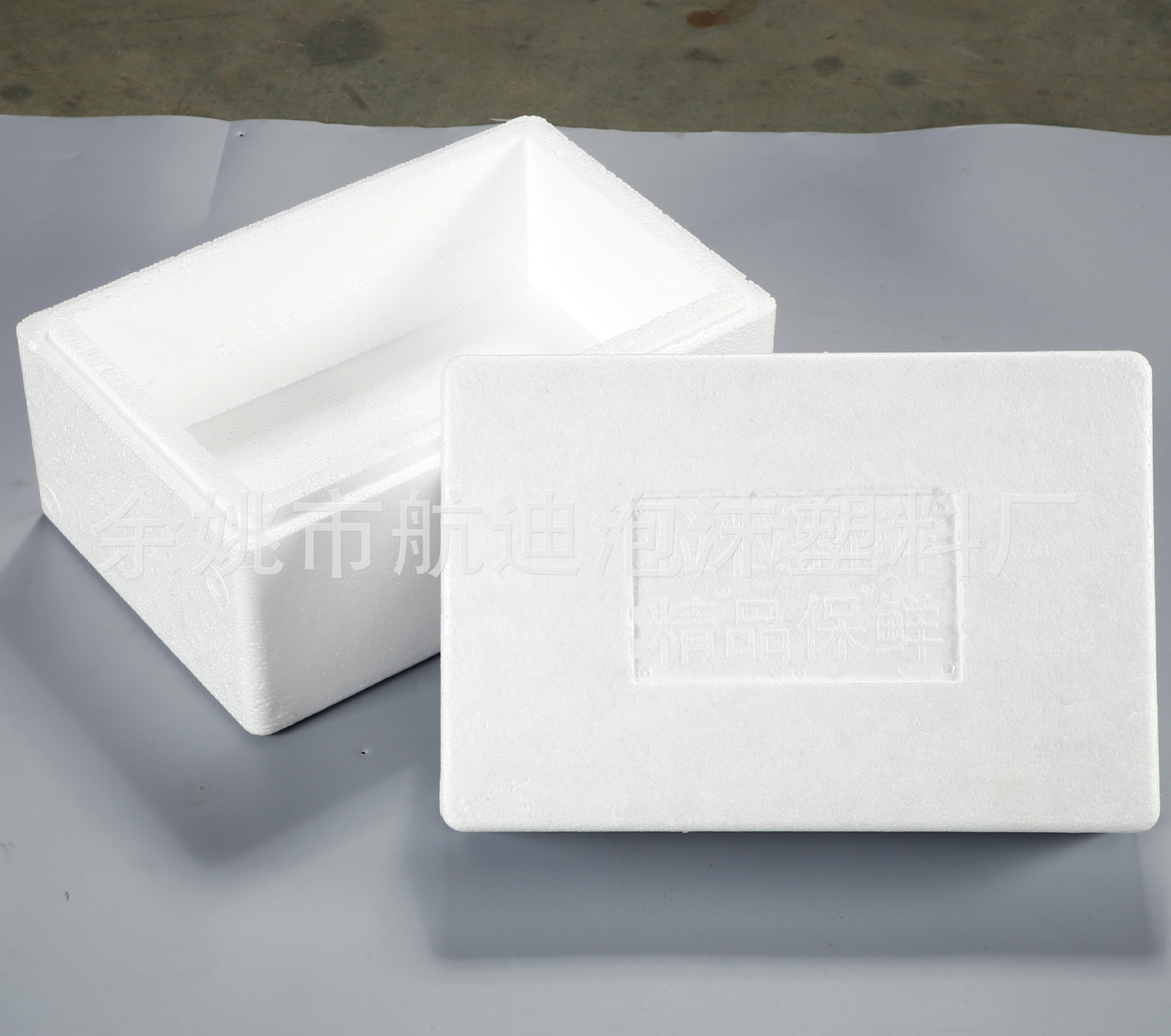泡沫箱: (18, 118, 1159, 832)
